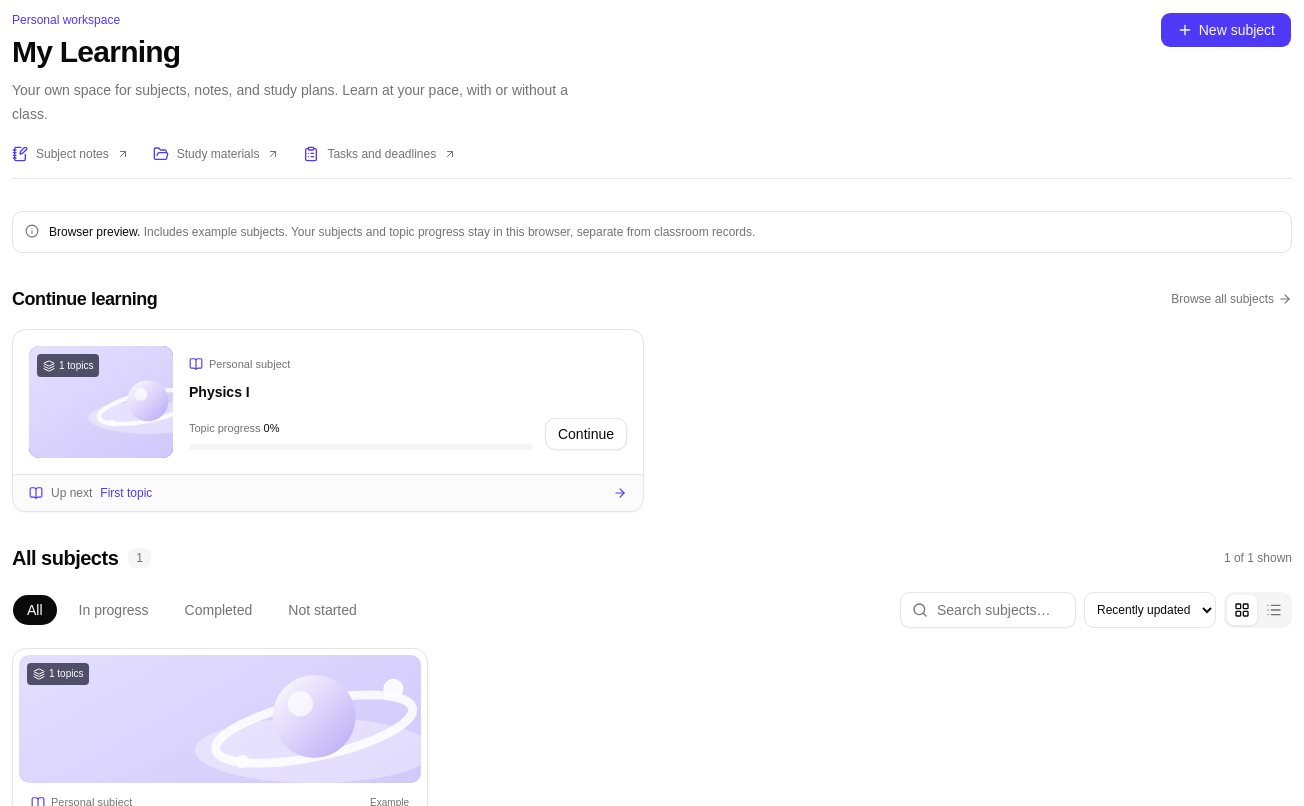
Scenario: SubjectsView › keeps a started subject in progress before its first topic is completed
The image size is (1304, 806).
Click the button "In progress" at (114,610), box [64, 594, 164, 626]
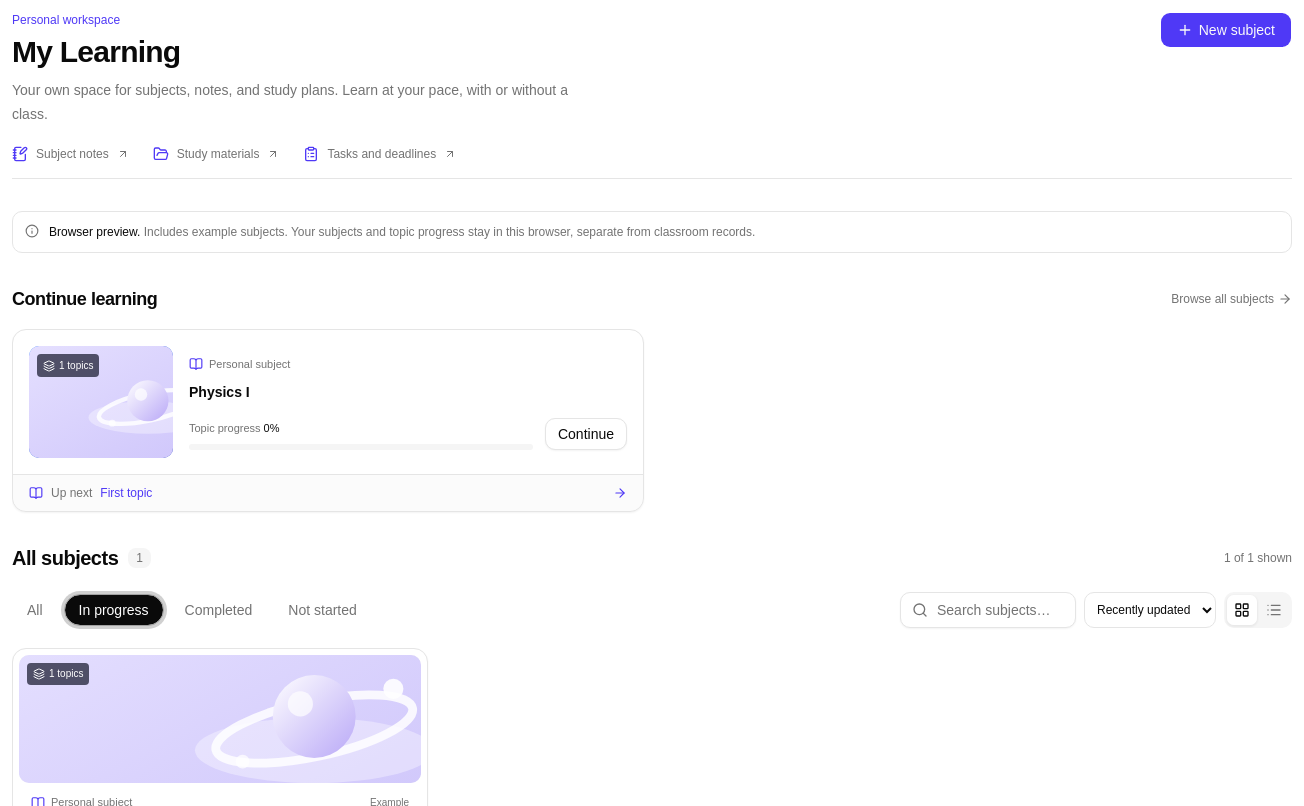
Expected: the link with aria-label "Continue studying Physics I" is shown, [545, 418, 627, 450]
Click the button "Not started" at (323,610), box [273, 594, 372, 626]
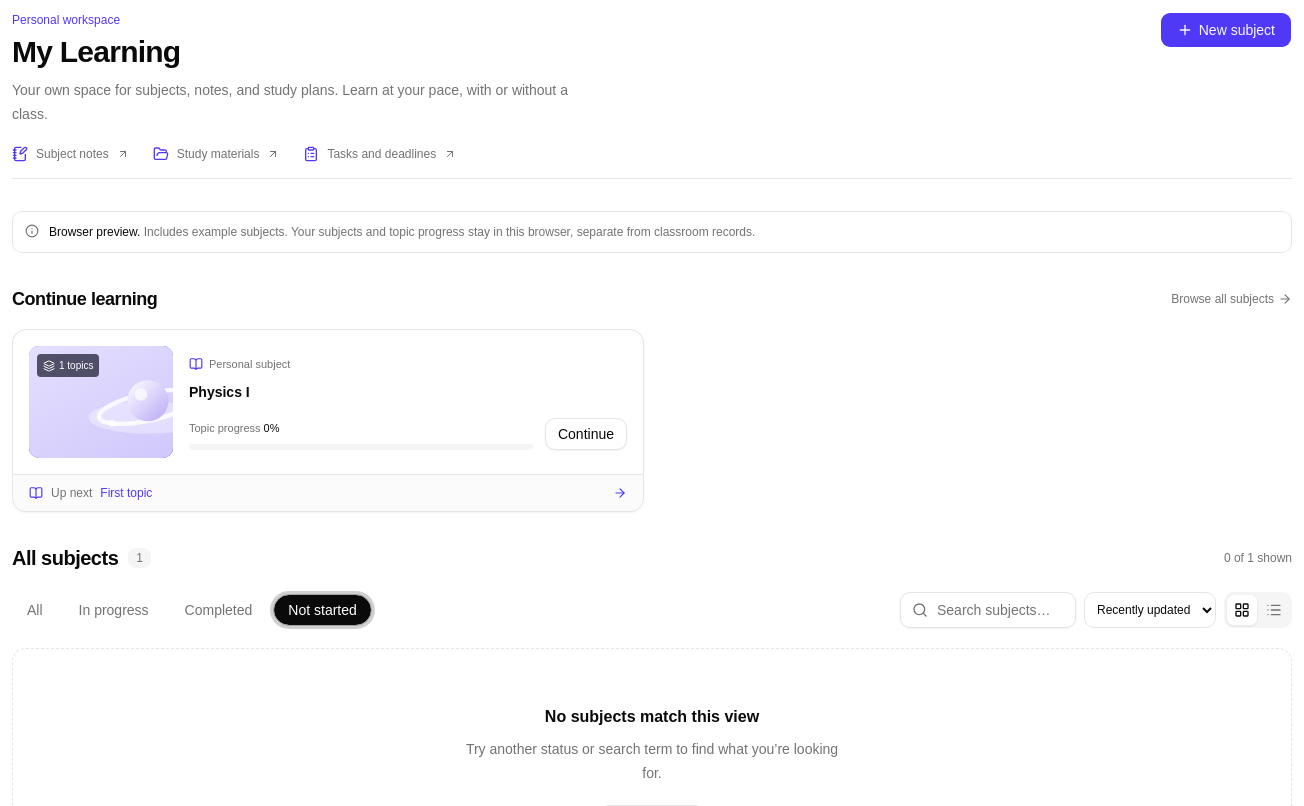
Result: the heading "No subjects match this view" is shown at [545, 708, 759, 725]
